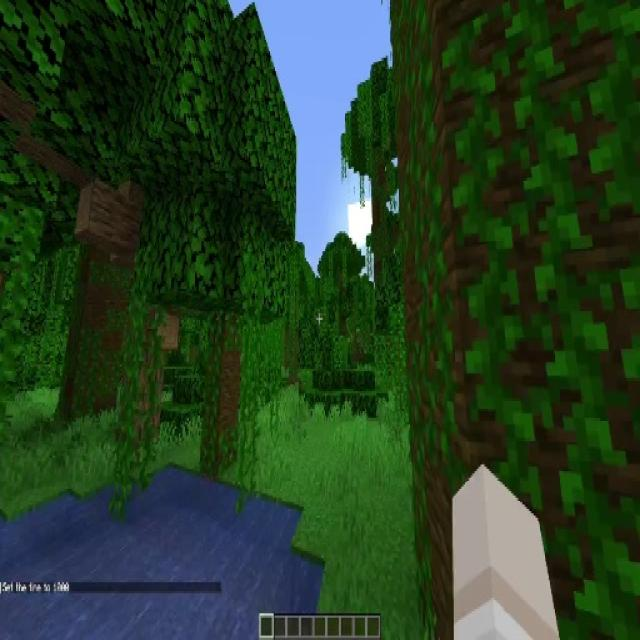jungle: (342, 57, 418, 316)
jungle_log: (398, 6, 640, 640), (203, 318, 238, 473), (73, 256, 104, 418)
oak: (148, 20, 288, 480)
